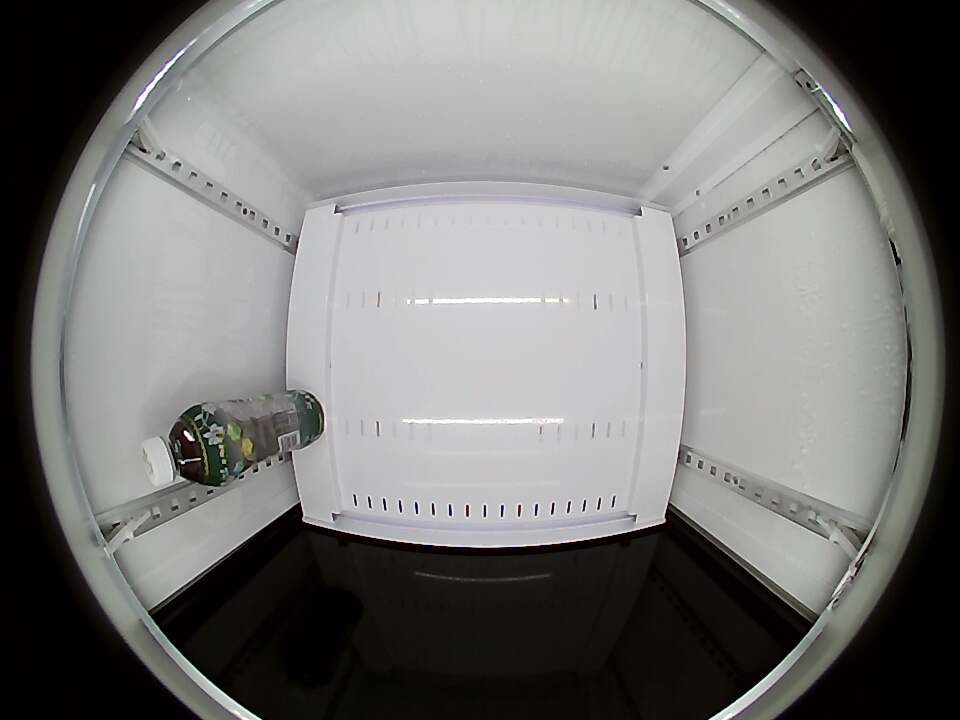moliqingcha: (140, 406, 231, 488)
